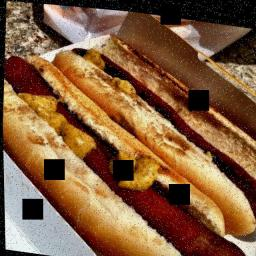hotdog: (1, 51, 256, 256), (68, 40, 256, 224)
